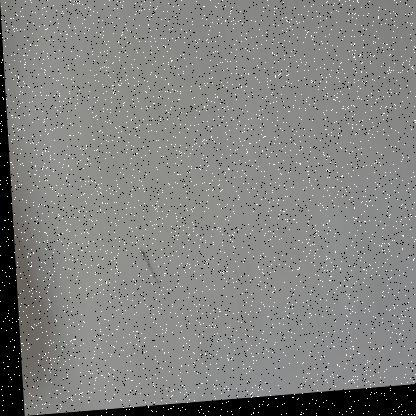spot: (127, 242, 158, 296)
